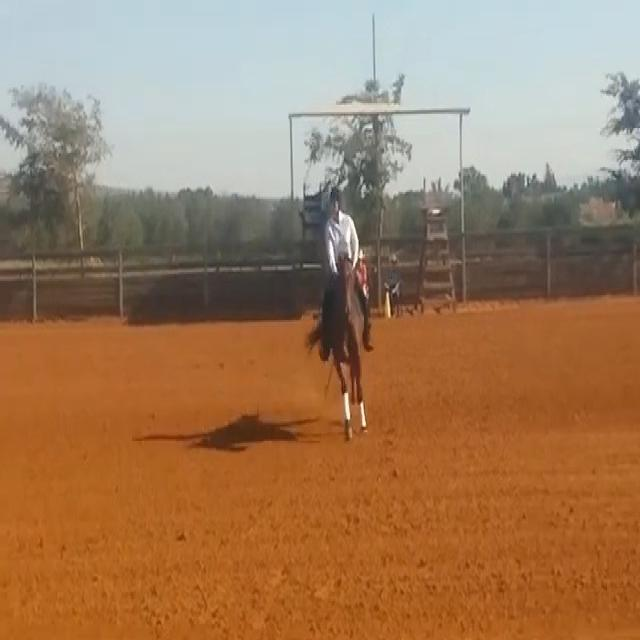horse: (305, 249, 372, 443)
